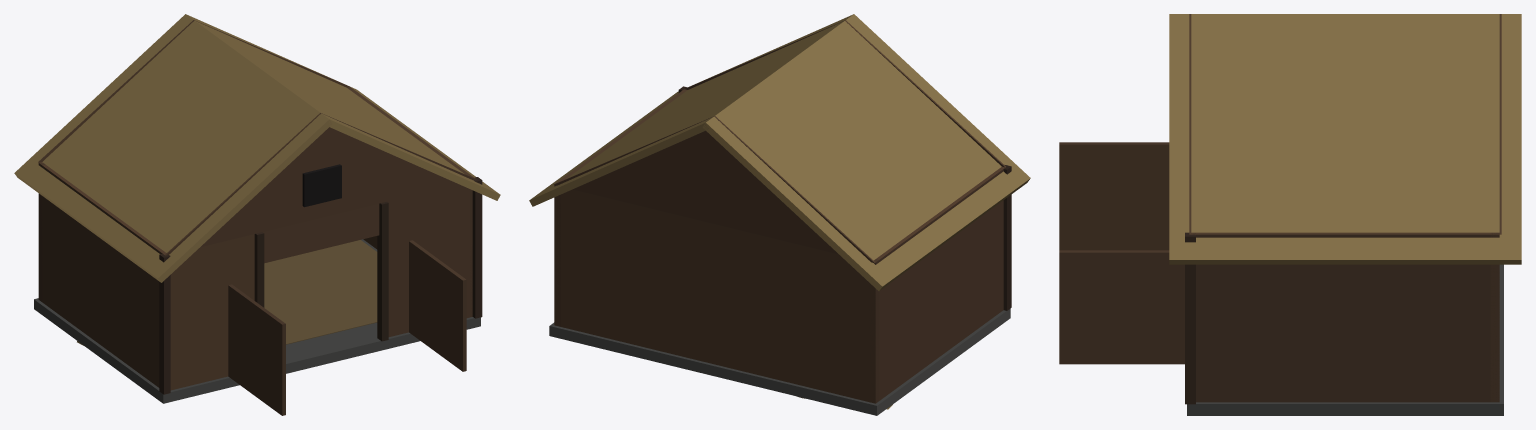
File: walk_prop_barn.glb
The picture shows the model from 3 angles, left to right: view 1: azimuth 30°, elevation 25°; view 2: azimuth 150°, elevation 25°; view 3: azimuth 270°, elevation 25°; orthographic projection. The views are drawn at different scales.
Parts seen in each view (by area): view 1: walk_prop_barn, walk_prop_barn_roof; view 2: walk_prop_barn, walk_prop_barn_roof; view 3: walk_prop_barn_roof, walk_prop_barn.
Boxes of the visible parts, box(x1,y1,x2,y2) form: walk_prop_barn: box(34, 87, 482, 415); walk_prop_barn_roof: box(14, 14, 500, 282); walk_prop_barn: box(549, 86, 1011, 415); walk_prop_barn_roof: box(529, 14, 1030, 290); walk_prop_barn_roof: box(1169, 14, 1521, 264); walk_prop_barn: box(1059, 142, 1503, 415).
Size of what is drawn, in the model's own units: 11 by 8.29 by 10.5.
Materials: 1 (1 with a texture image).
